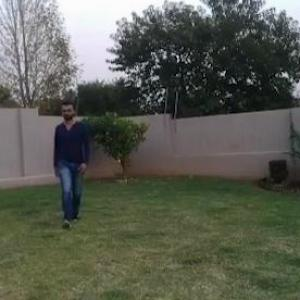follow: (51, 102, 90, 226)
